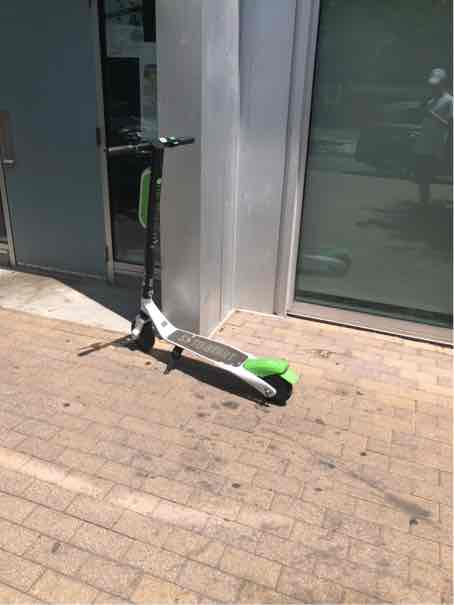scooter: (94, 134, 309, 407)
